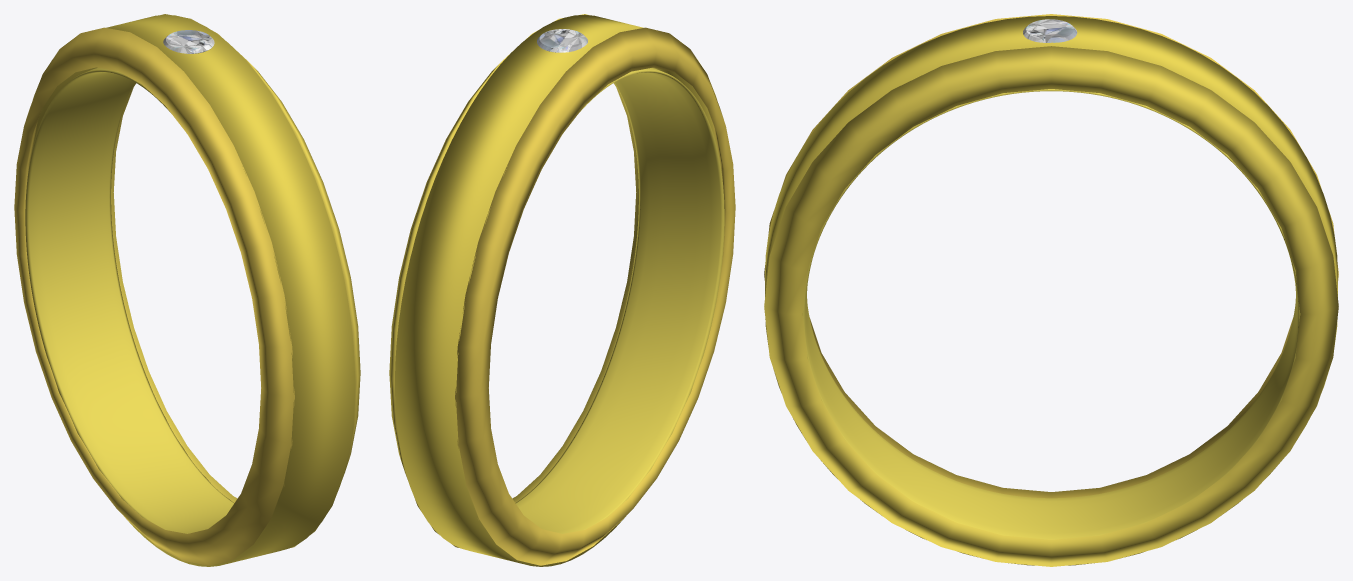
The model's file is ringchanffinacompedra.glb.
The picture shows the model from 3 angles, left to right: view 1: azimuth 30°, elevation 25°; view 2: azimuth 150°, elevation 25°; view 3: azimuth 270°, elevation 25°; orthographic projection. The views are drawn at different scales.
Visible parts, largest first — view 1: Circle, Cone; view 2: Circle, Cone; view 3: Circle, Cone.
Boxes of the visible parts, x1,y1,x2,y2 form: Circle: [14, 14, 360, 566]; Cone: [163, 30, 214, 53]; Circle: [389, 14, 735, 566]; Cone: [537, 29, 587, 52]; Circle: [764, 14, 1338, 566]; Cone: [1023, 19, 1077, 42].
Size of the model in its own units: 0.3597 by 1.89 by 1.88.
Materials: 5 (1 with a texture image).
